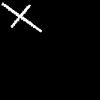single_crochet: (2, 3, 41, 31)
